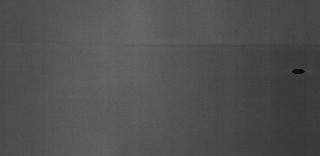punching hole: (290, 67, 306, 75)
welding line: (3, 38, 316, 50)
